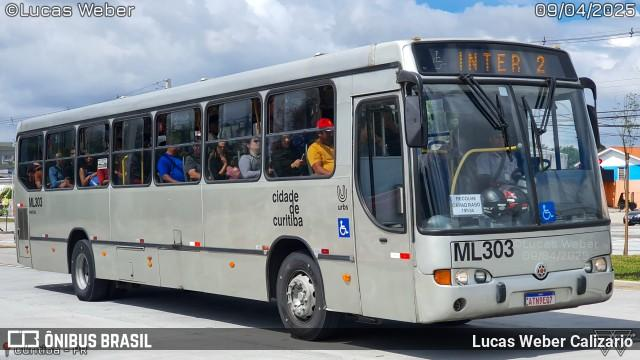INTER2: (452, 48, 552, 78)
